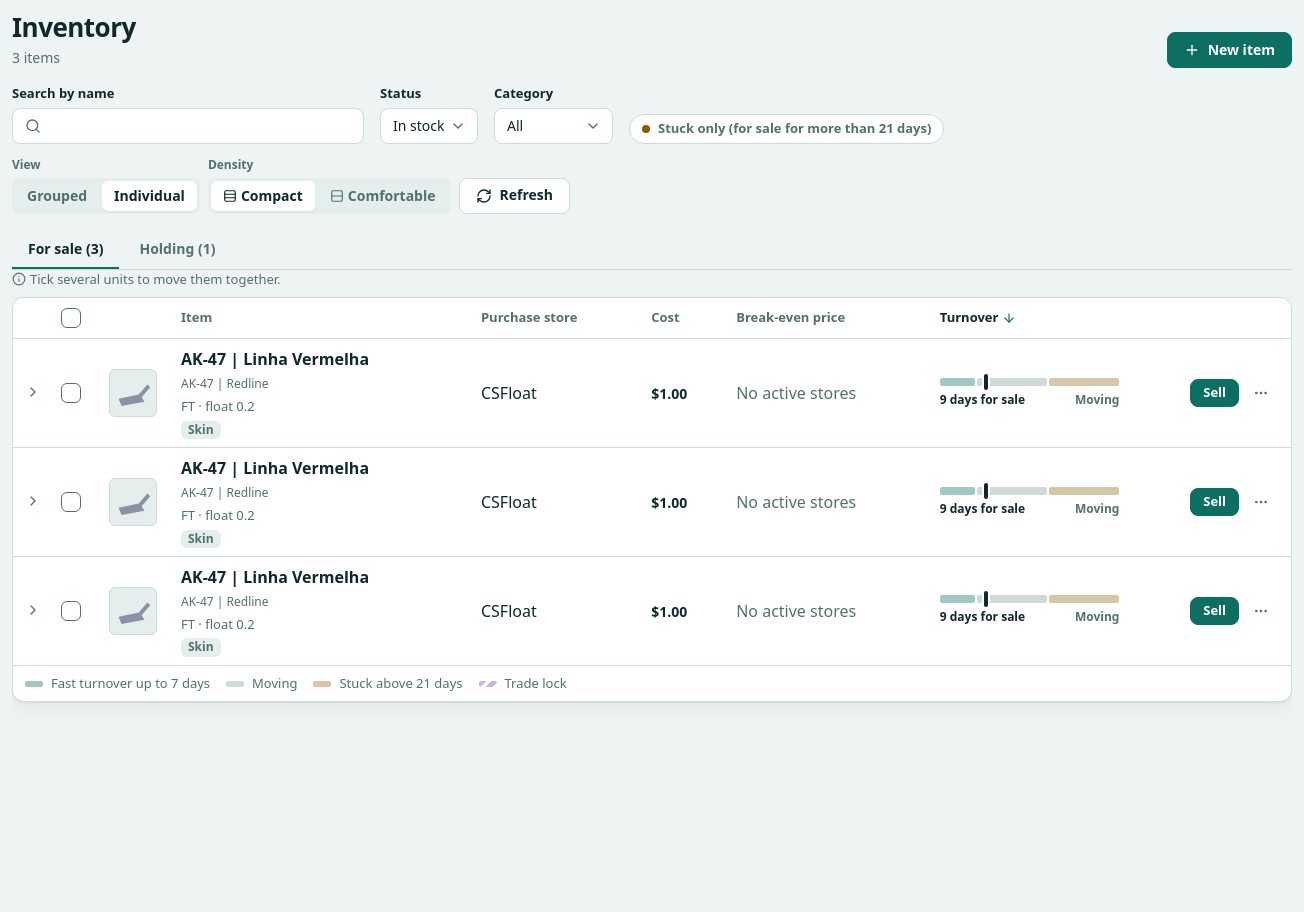
Test case: seleção na página (visão individual) › trocar a aba limpa a seleção
The width and height of the screenshot is (1304, 912).
Later steps or results of the test are not shown.
Click the checkbox named "Select AK-47 | Linha Vermelha (#1)". click: (71, 393)
box: [61,383,81,403]
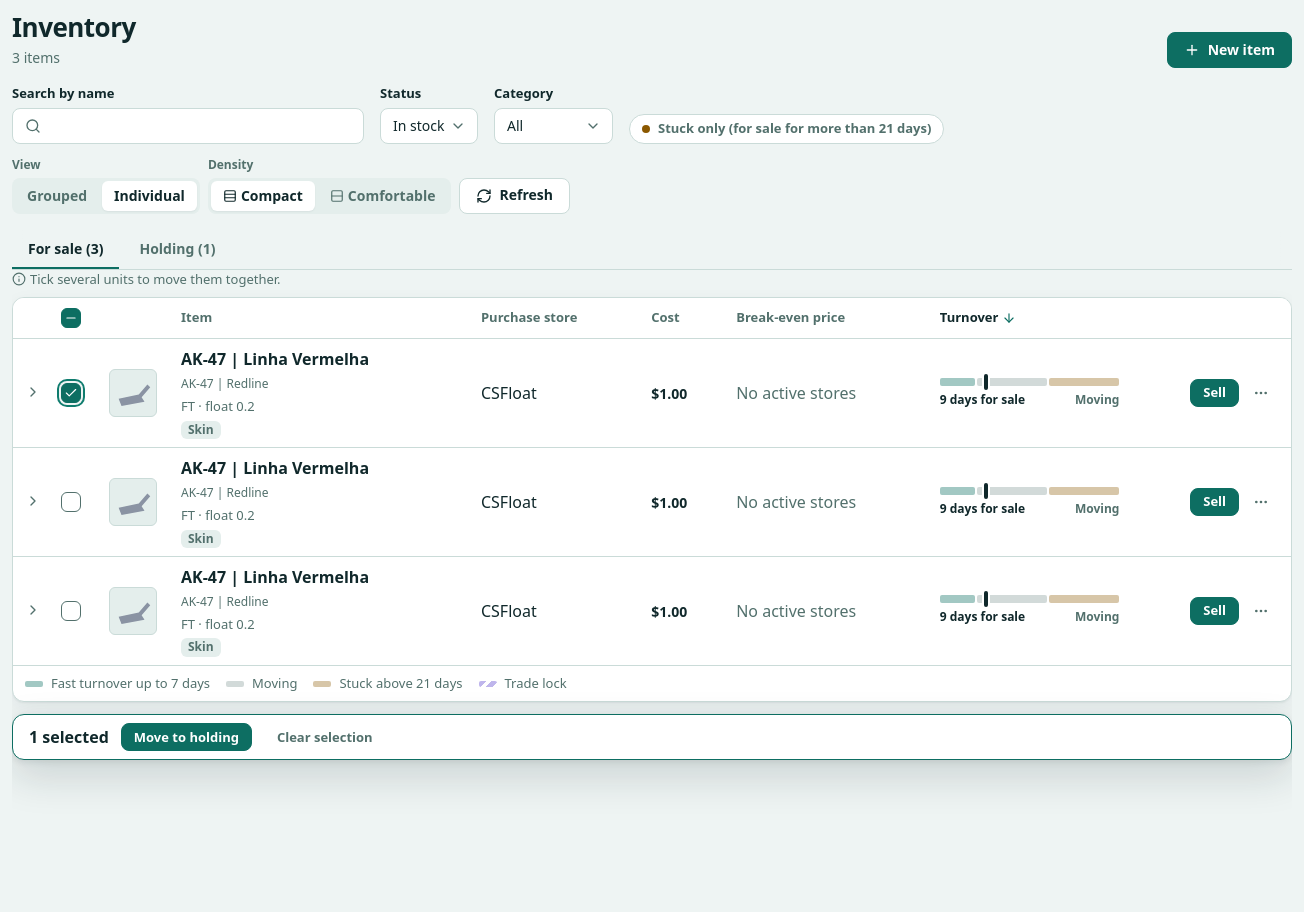
Check: the element named "Selected units" is shown, box [12,714,1292,760]
